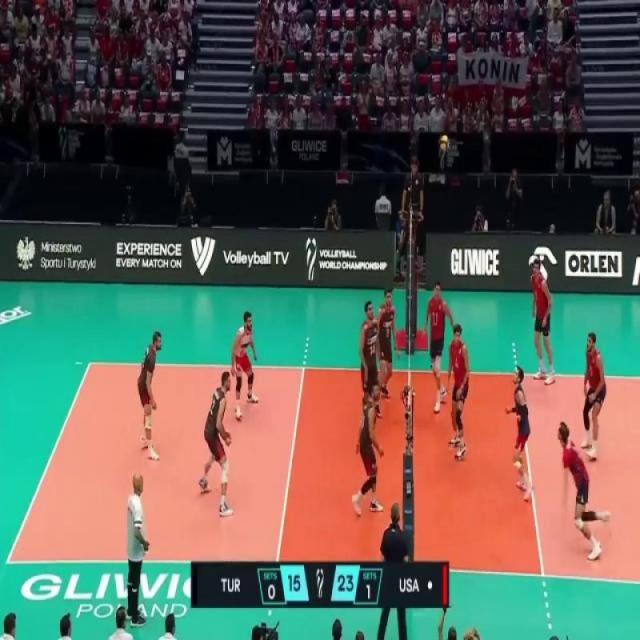volleyball: (438, 132, 450, 152)
